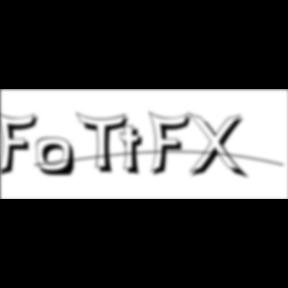F: (149, 110, 197, 178), (0, 110, 44, 178)
T: (76, 112, 134, 176)
X: (187, 112, 251, 182)
o: (36, 137, 78, 179)
t: (120, 124, 150, 179)
